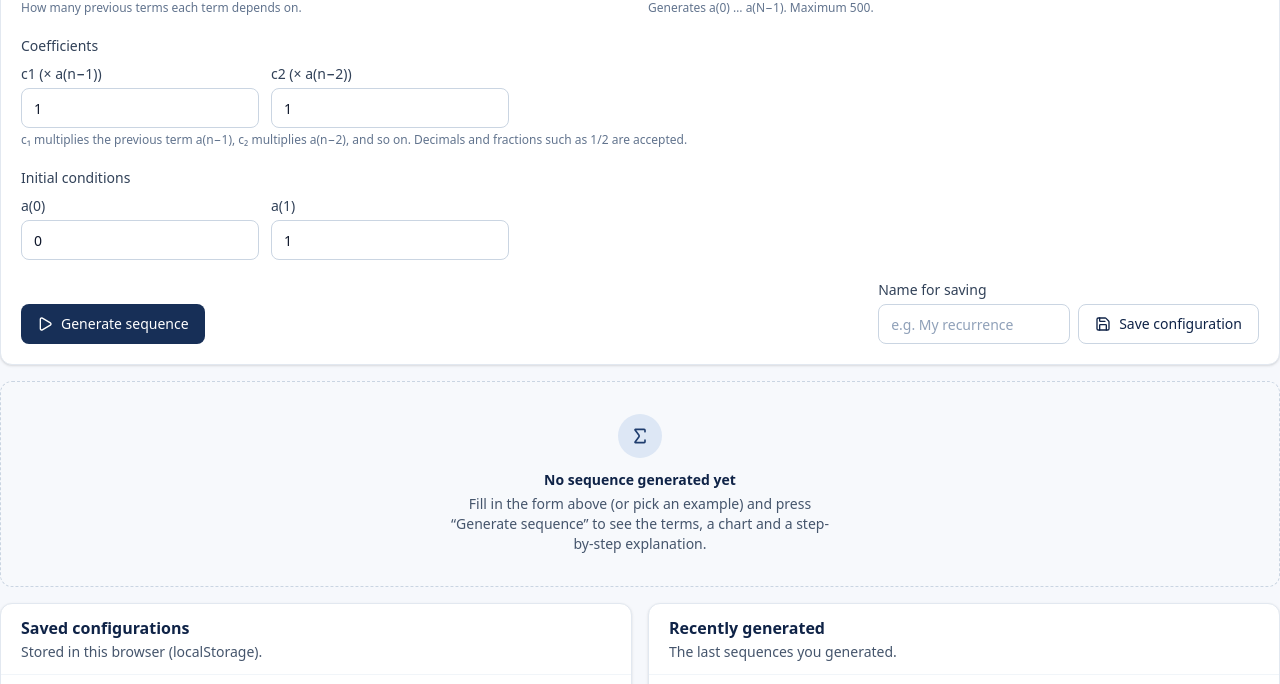
Recurrence Lab › saves a configuration, lists it, and persists it in localStorage
(page scrolled)
In the field labelled "Name for saving": (974, 324) [878,304,1070,344], type "My Fib"
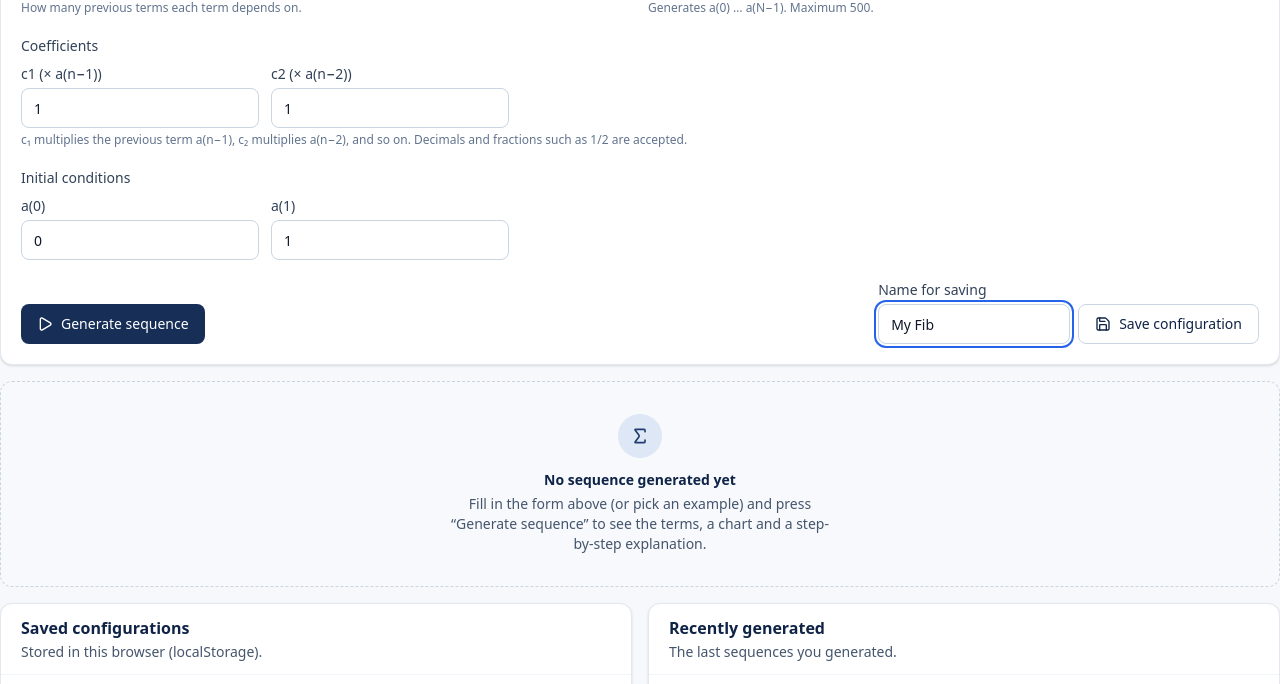
Click the button "Save configuration": click(1169, 324) [1078,304,1259,344]
(page scrolled)
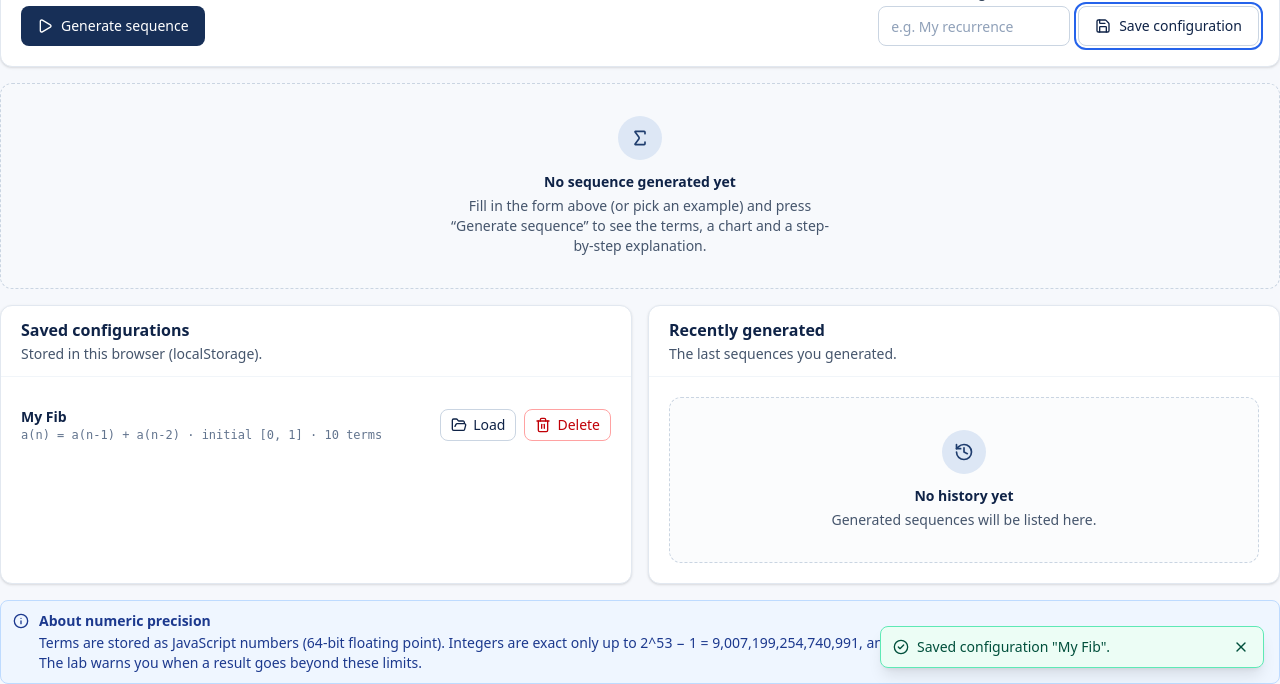
Expected: the text "My Fib" is shown, [21,407,67,426]
